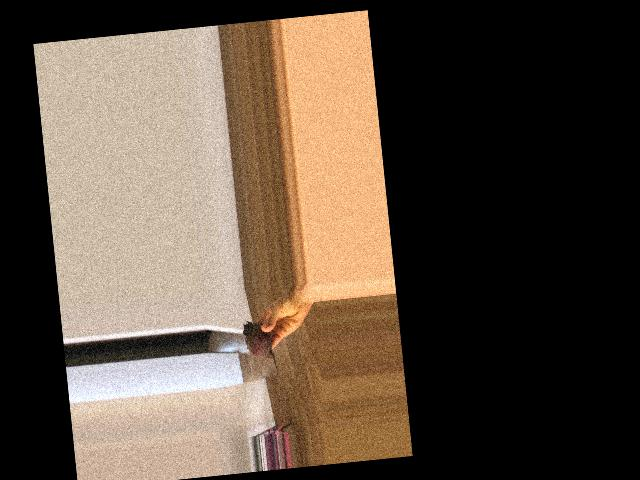beet: (242, 319, 279, 387)
